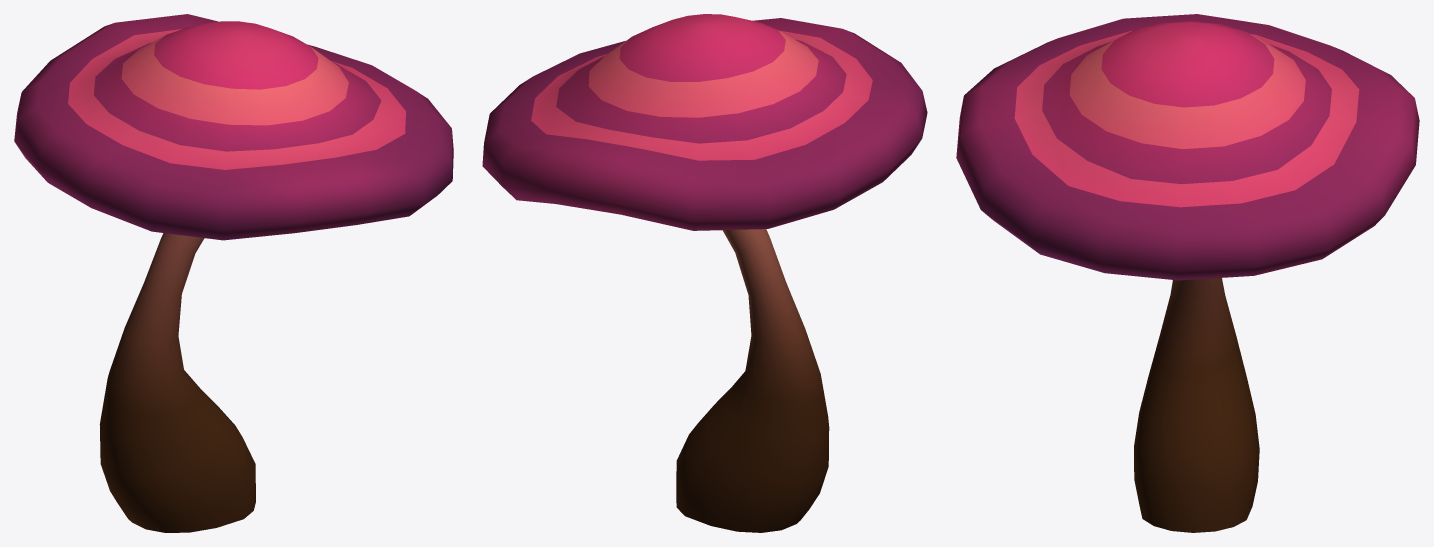
Rendered from Fungus-1-3.fbx.
3 views of the same model, side by side, from view 1: azimuth 30°, elevation 25°; view 2: azimuth 150°, elevation 25°; view 3: azimuth 270°, elevation 25° (orthographic). The views are drawn at different scales.
Parts seen in each view (by area): view 1: Fungus-1-3; view 2: Fungus-1-3; view 3: Fungus-1-3.
Boxes of the visible parts, box(x1,y1,x2,y2) form: Fungus-1-3: box(14, 14, 453, 532); Fungus-1-3: box(482, 14, 927, 532); Fungus-1-3: box(956, 14, 1419, 532).
Size of the model in its own units: 50.4 by 59.24 by 50.75.
